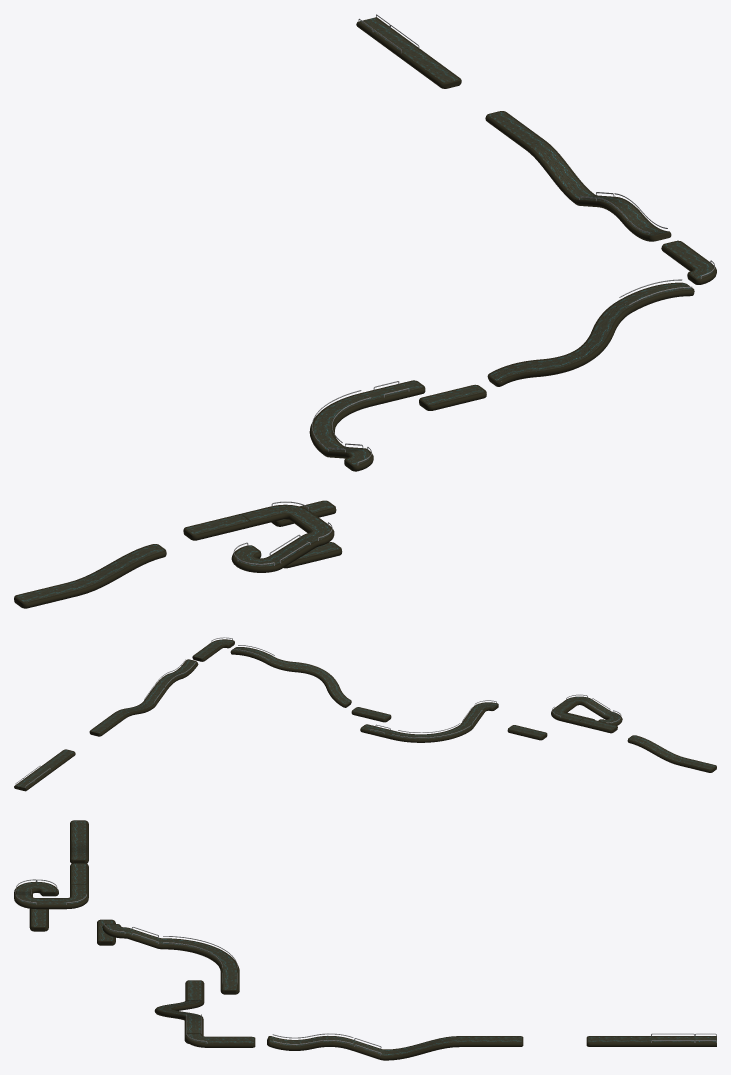
The model's file is map50.fbx.
3 views of the same model, one above another, from view 1: azimuth 30°, elevation 25°; view 2: azimuth 150°, elevation 25°; view 3: azimuth 270°, elevation 25° (orthographic). The views are drawn at different scales.
Visible parts, largest first — view 1: Normal; view 2: Normal; view 3: Normal.
Boxes of the visible parts, x1,y1,x2,y2 form: Normal: (14, 14, 716, 608); Normal: (14, 637, 716, 791); Normal: (14, 820, 716, 1060).
Bounding box in the file's own units: 18380 × 2160 × 18881.
6 materials, 6 textured.
